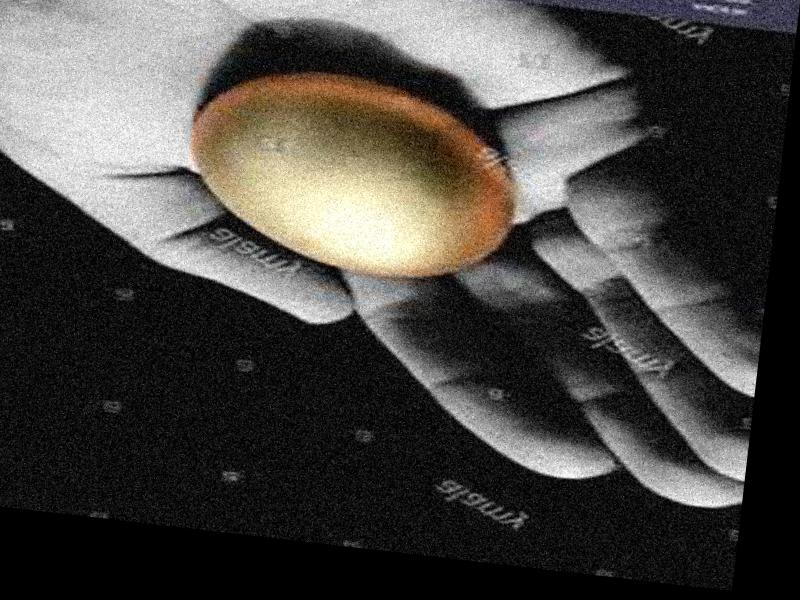Eggs: (183, 62, 528, 289)
